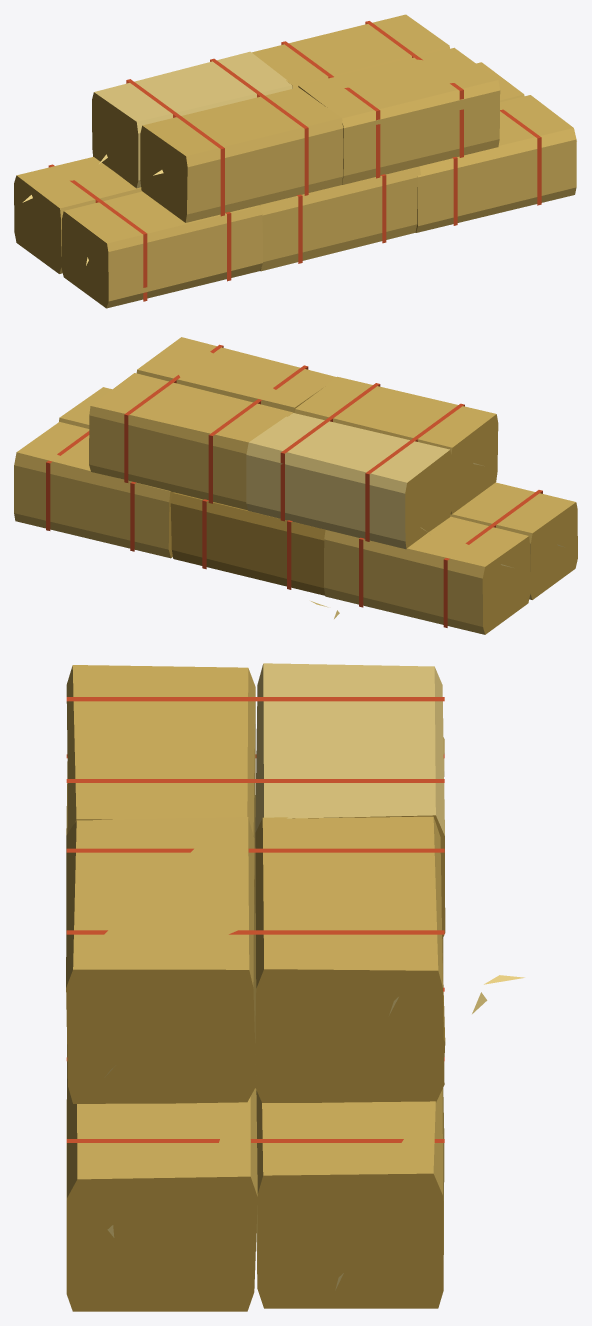
File: hay_bale.glb
3 renders of one model, top to bottom at view 1: azimuth 30°, elevation 25°; view 2: azimuth 150°, elevation 25°; view 3: azimuth 270°, elevation 25°, orthographic. The views are drawn at different scales.
Parts seen in each view (by area): view 1: hay_bale; view 2: hay_bale; view 3: hay_bale.
Part boxes in pixels (<box>): hay_bale: <box>14,14,576,308</box>; hay_bale: <box>14,337,577,634</box>; hay_bale: <box>66,663,524,1311</box>.
Bounding box in the file's own units: 2.8 × 0.7259 × 1.13.
